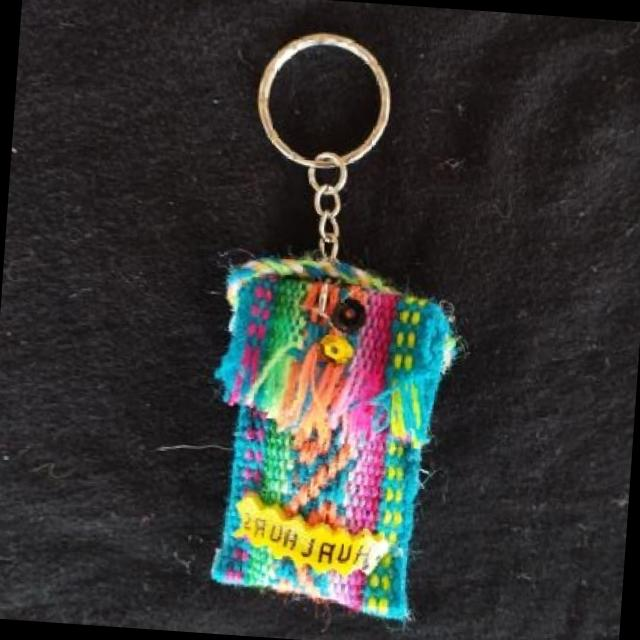Llavero: (197, 244, 469, 626)
